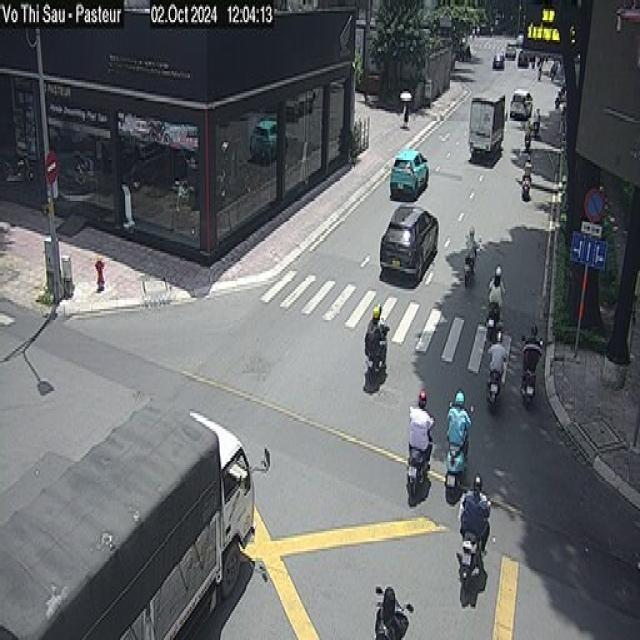car: (378, 201, 440, 288), (390, 140, 430, 203), (512, 84, 534, 117), (492, 50, 506, 70)
motorcycle: (444, 445, 467, 500), (404, 443, 424, 505), (457, 532, 477, 590), (364, 355, 391, 389), (486, 376, 500, 408), (488, 298, 502, 330), (464, 252, 478, 283), (524, 378, 537, 406), (522, 174, 533, 207), (532, 123, 542, 138), (523, 134, 532, 150)
person: (467, 468, 487, 548), (412, 387, 432, 455), (378, 585, 401, 640), (448, 382, 465, 456), (490, 333, 510, 389), (490, 268, 508, 316), (526, 324, 540, 378), (374, 300, 386, 360), (465, 220, 478, 273), (369, 308, 379, 358), (525, 153, 532, 184), (536, 101, 542, 128), (526, 118, 532, 142)
truck: (0, 387, 256, 640), (466, 85, 505, 164)
